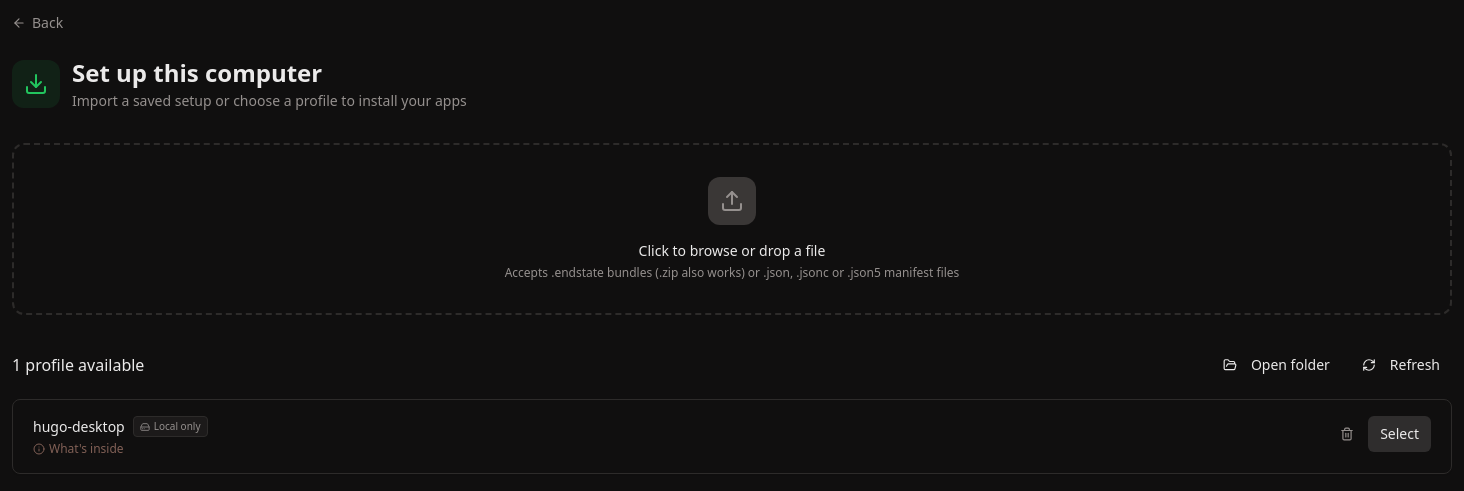
Test: SetupFlow dry-run disclosure › still reports errors ahead of dry-run copy
Click the button "hugo-desktop Local only What's inside Select" at (79, 426), box [12,399,1452,474]
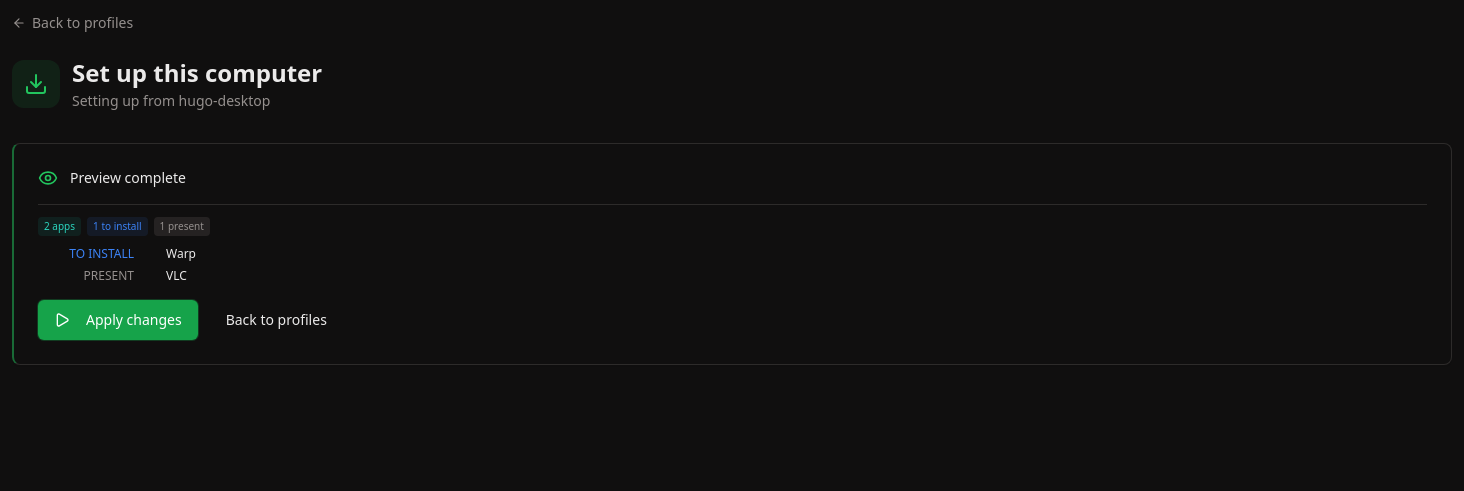
Expected: the button with test id "setup-flow-apply" is shown
Click the button with test id "setup-flow-apply" at (118, 320), box [38,300,198,340]
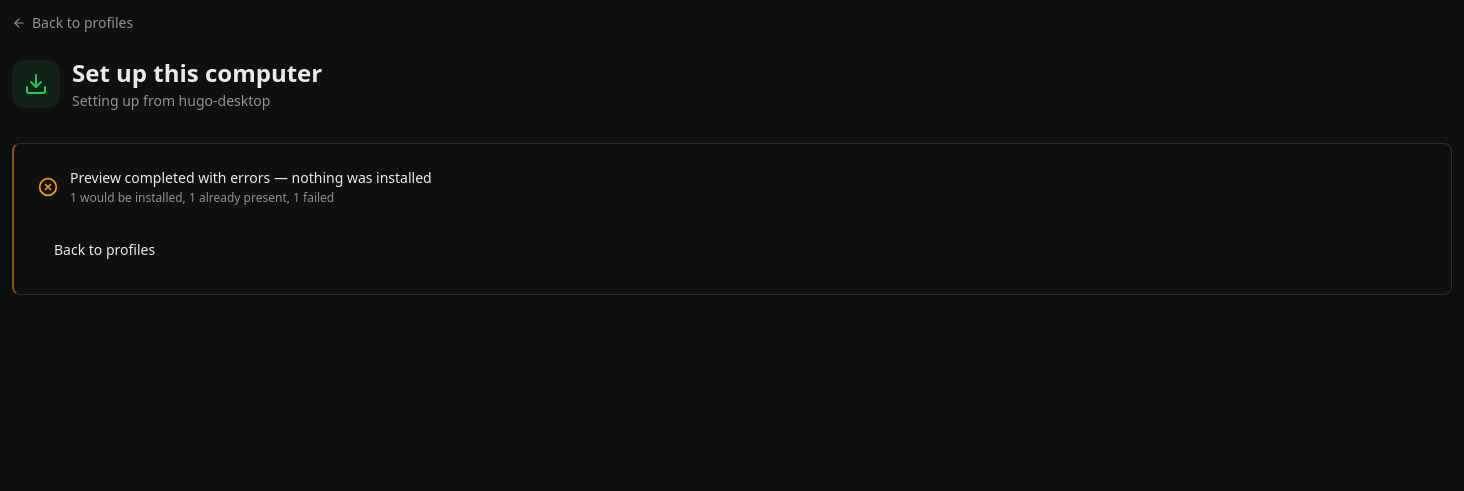
Expected: the text "Preview completed with errors — nothing was installed" is shown, [70,168,432,188]
